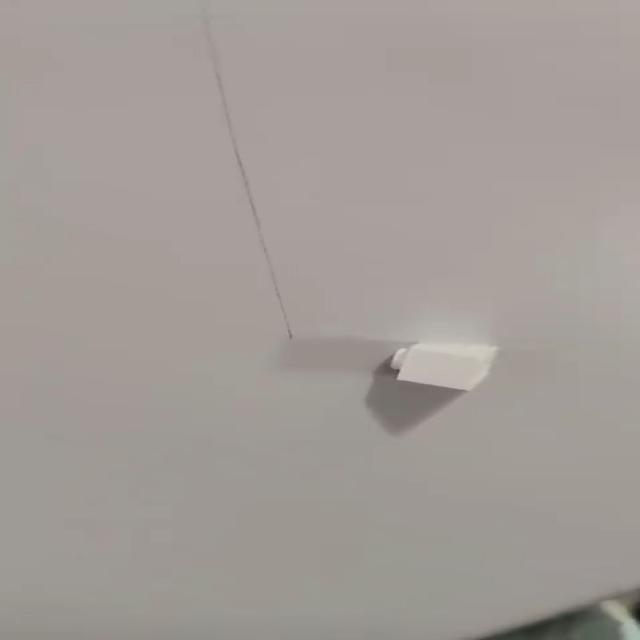P1x2x1: (384, 338, 497, 393)
